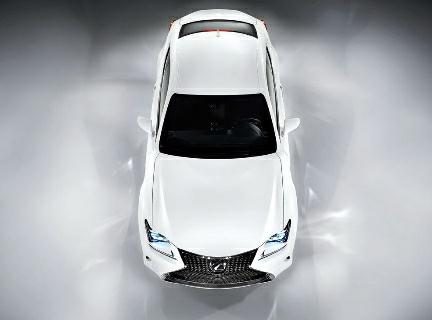雷克萨斯-RX经典: (132, 10, 302, 293)
